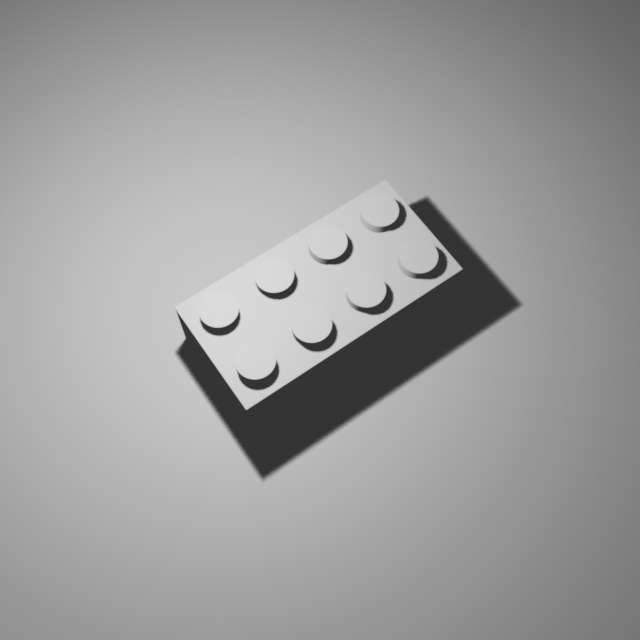lego_2x4: (173, 173, 464, 434)
